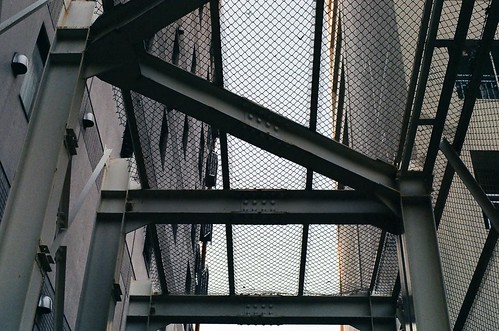building: (1, 1, 201, 325), (339, 1, 499, 326)
sky: (201, 1, 334, 329)
